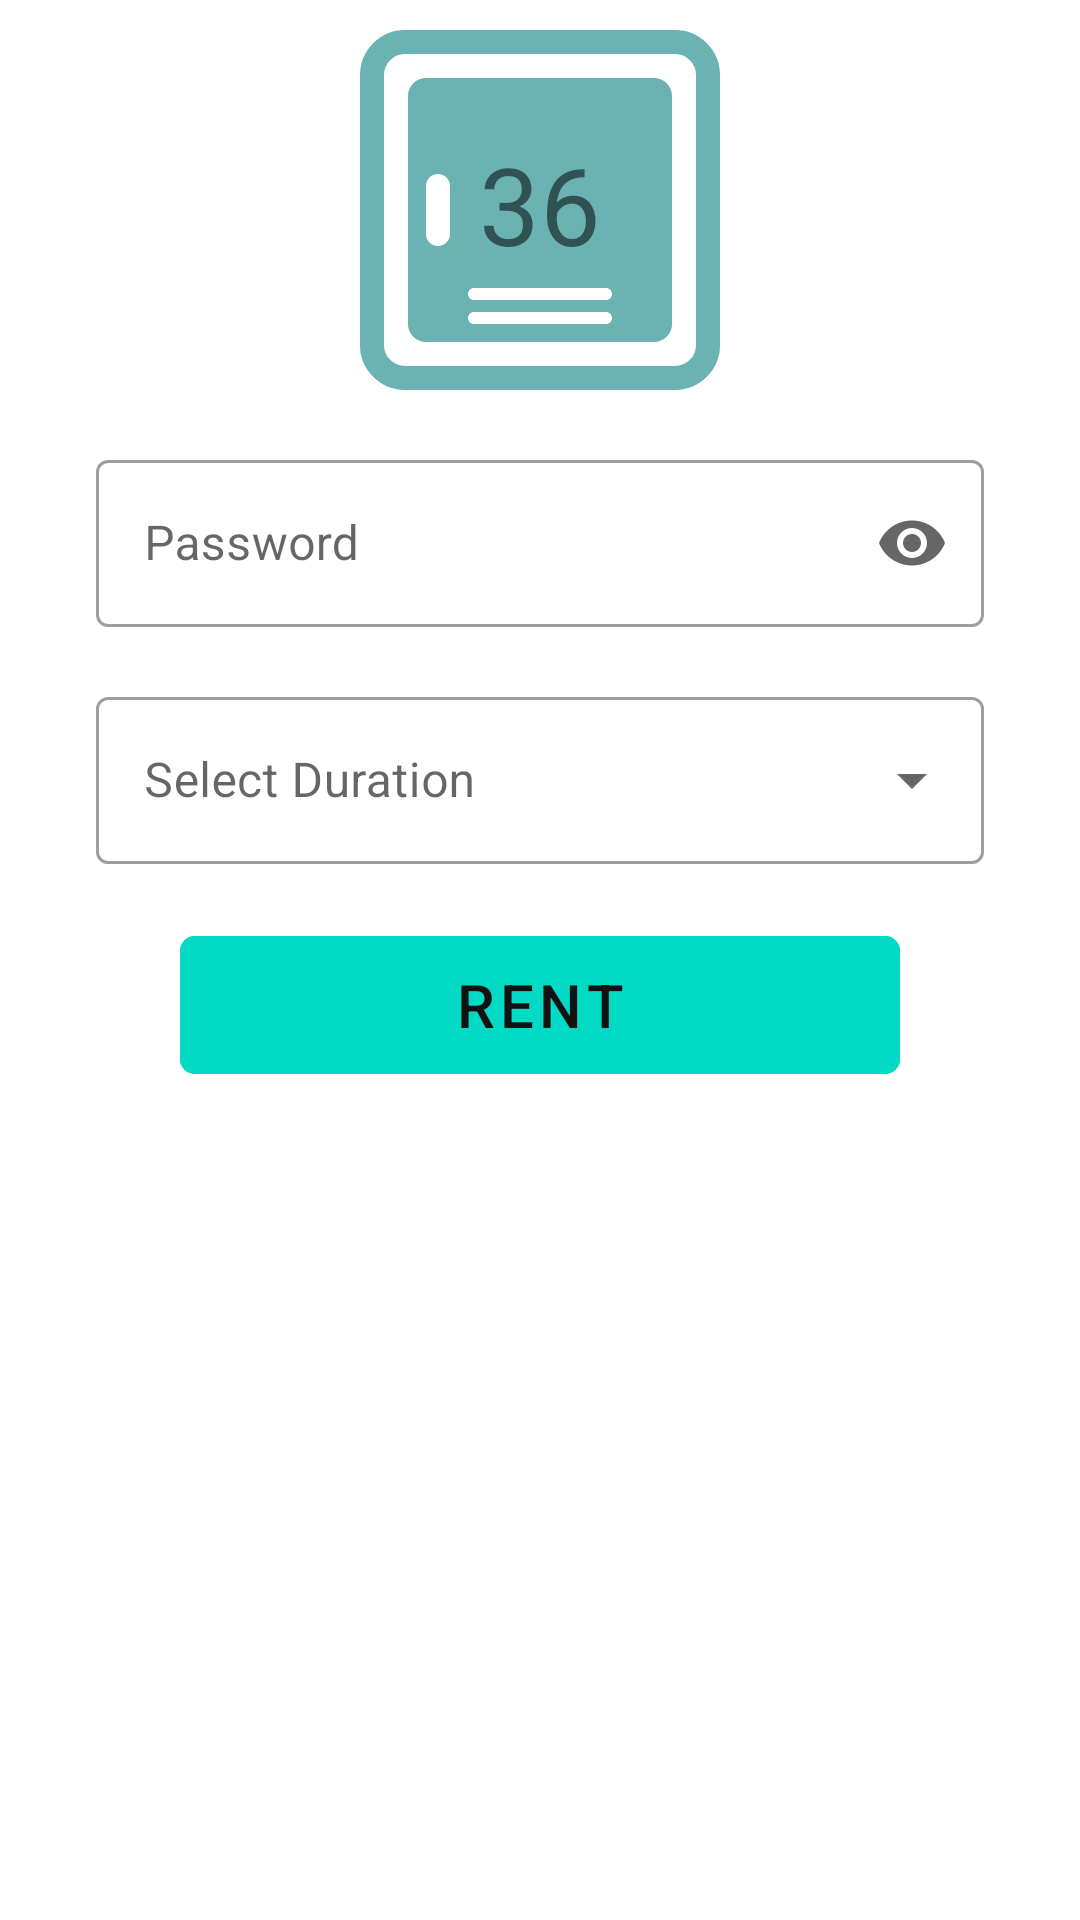

Icons on this 1080w x 1920h Android screen, each with the point to tap as [x,y]:
box: [540,210]
